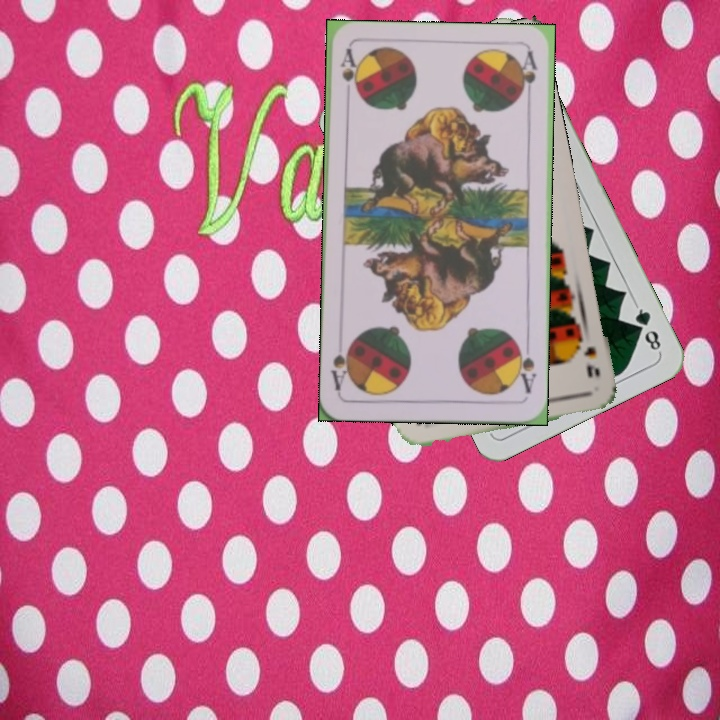G8: (630, 300, 664, 356)
S9: (572, 328, 603, 380)
SA: (512, 339, 539, 396), (336, 45, 360, 97)
